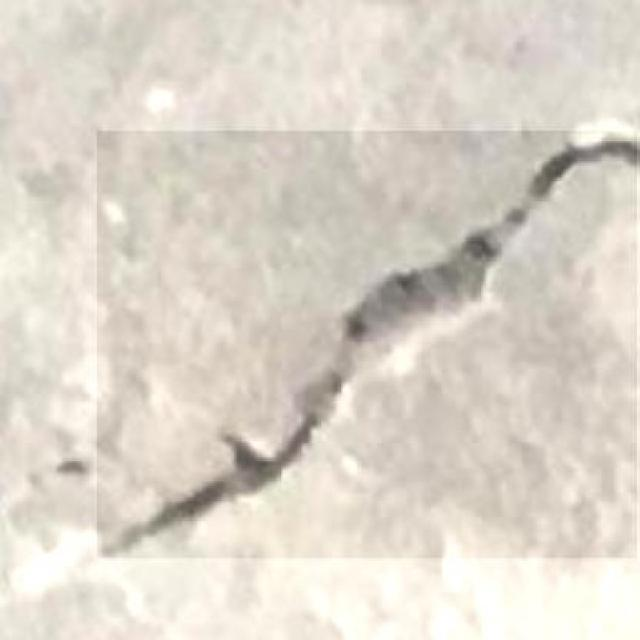Crack: (124, 131, 616, 544)
